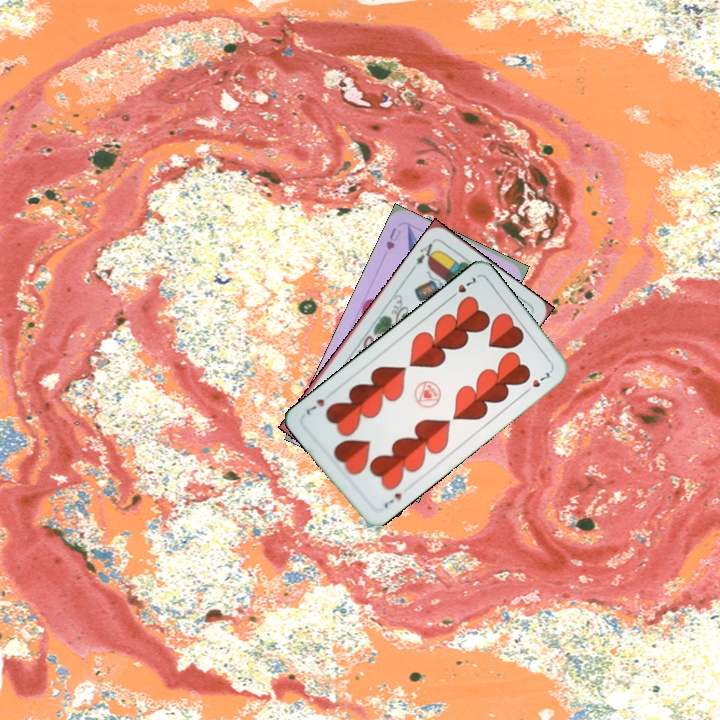EA: (411, 239, 440, 267)
H7: (445, 272, 478, 302), (380, 489, 404, 512)
HU: (382, 223, 404, 253)
